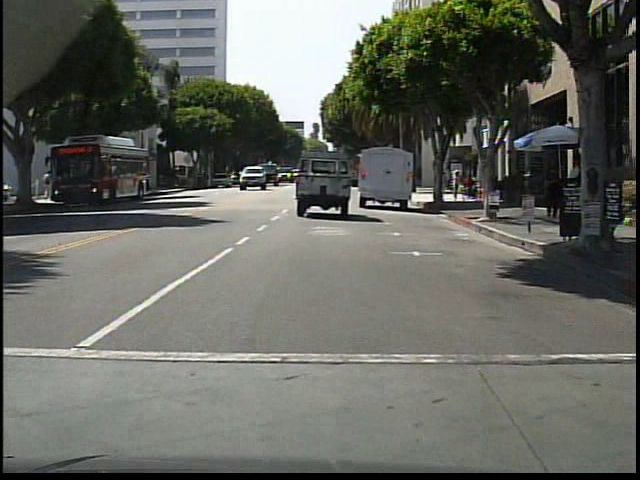person: (563, 151, 590, 236), (542, 168, 559, 220), (449, 170, 461, 204), (439, 167, 449, 203), (42, 170, 54, 198)
